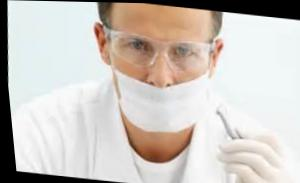WRONG: (99, 15, 222, 139)
